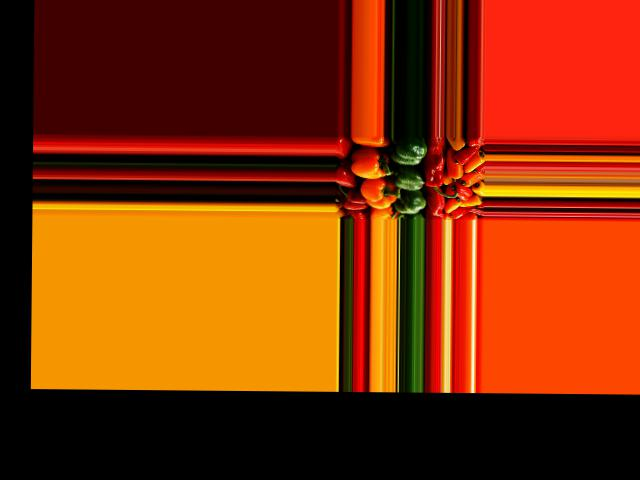bell_pepper: (453, 143, 480, 166)
